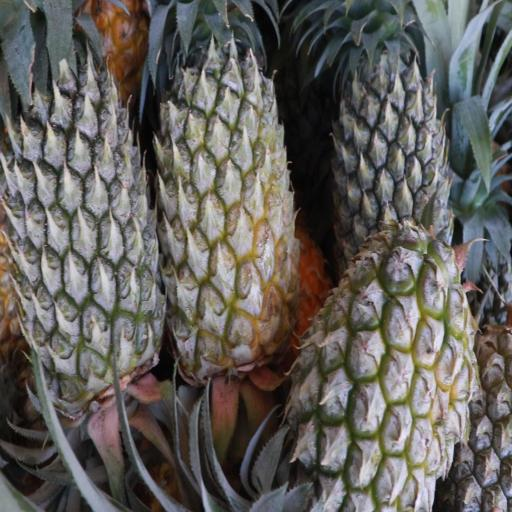------------------------------: (290, 237, 469, 511), (158, 12, 294, 368)
